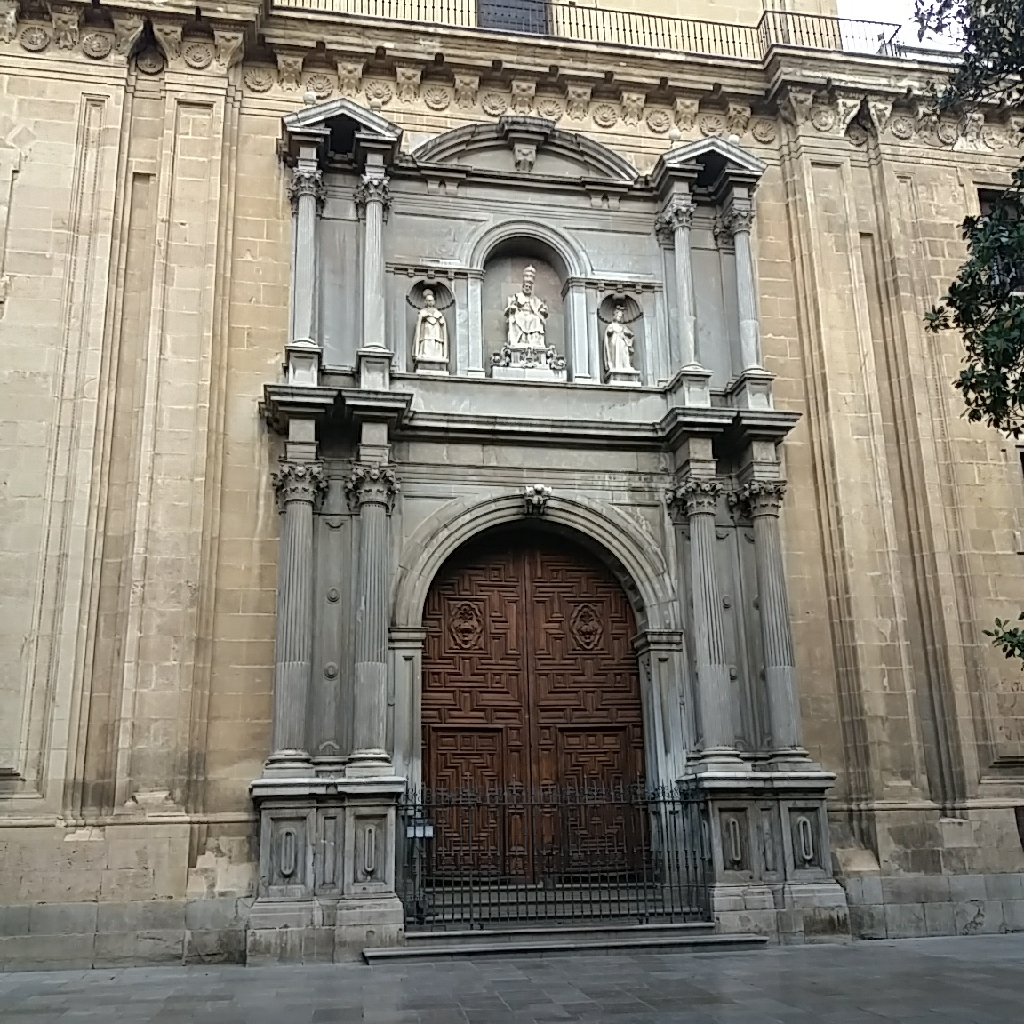arco-medio-punto: (407, 507, 663, 673), (477, 226, 577, 298)
fronton-curvo: (413, 115, 638, 193)
fronton-partido: (276, 98, 410, 153), (659, 135, 771, 183)
serliana: (377, 216, 664, 400)
